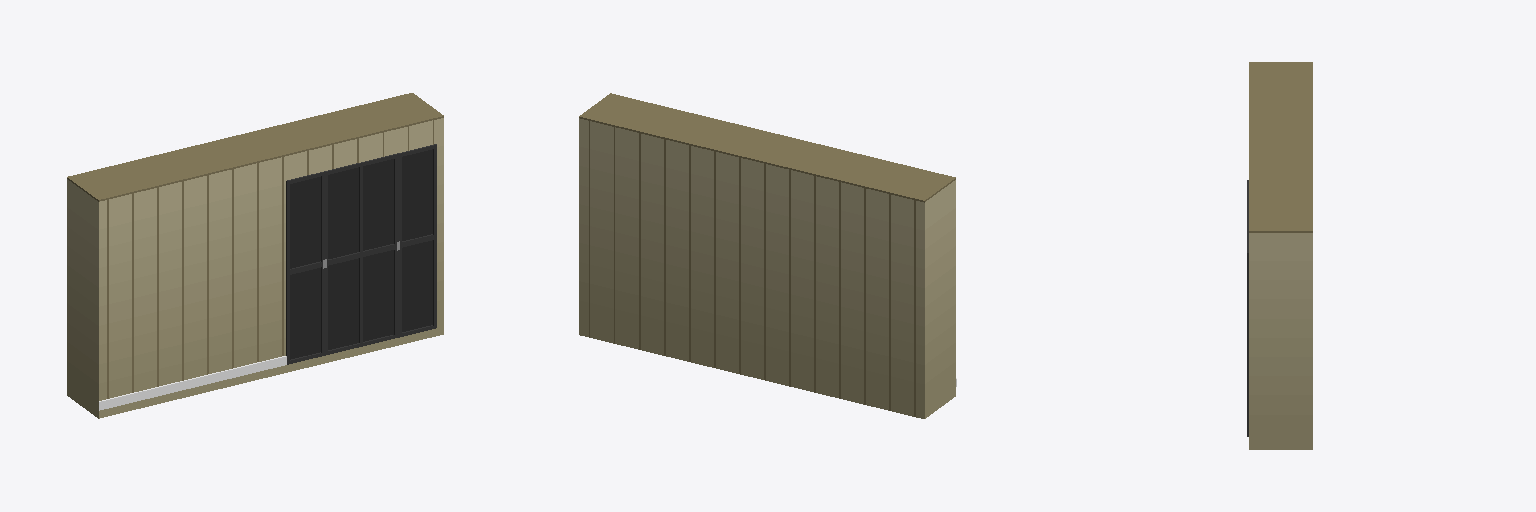
3 views of the same model, side by side, from view 1: azimuth 30°, elevation 25°; view 2: azimuth 150°, elevation 25°; view 3: azimuth 270°, elevation 25° (orthographic).
Visible parts, largest first — view 1: object 1; view 2: object 1; view 3: object 1.
Part boxes in pixels (x1,y1,x2,y2): object 1: (67,93,443,418); object 1: (579,93,956,418); object 1: (1247,62,1312,449).
Bounding box in the file's own units: 20.7 × 12.5 × 3.4.
1 materials, 1 textured.